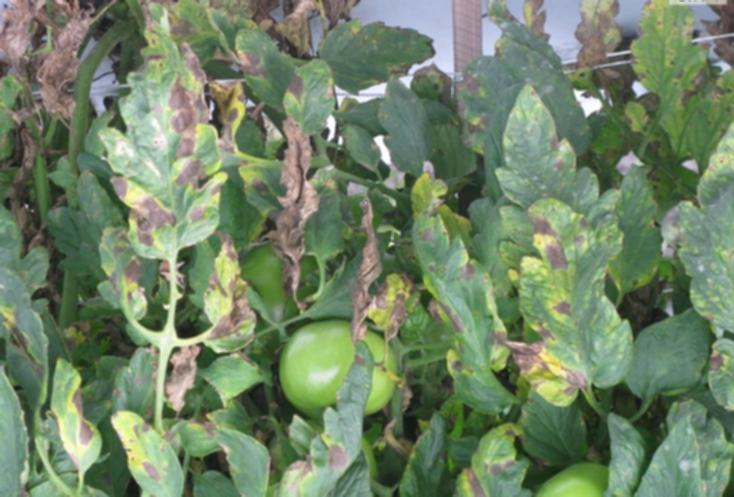Tomato Early blight leaf: (512, 183, 629, 413), (119, 23, 229, 256), (427, 163, 506, 431), (272, 347, 379, 497), (680, 123, 734, 341), (185, 251, 267, 351), (434, 424, 533, 497), (125, 397, 186, 497), (100, 203, 150, 324), (47, 365, 104, 468), (281, 54, 341, 131)
